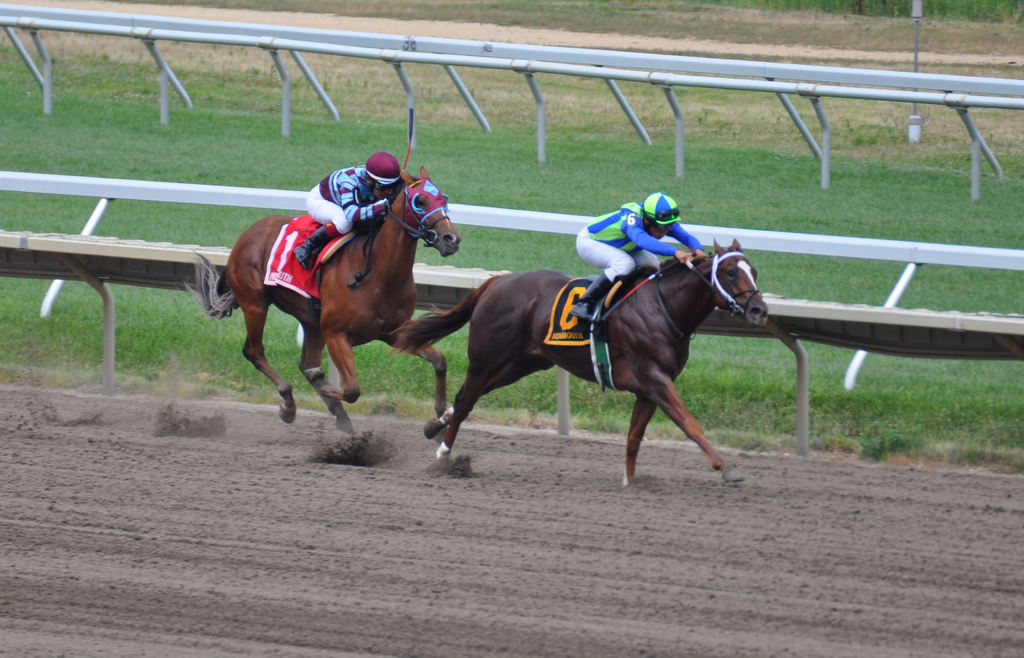horse: (384, 236, 768, 486)
